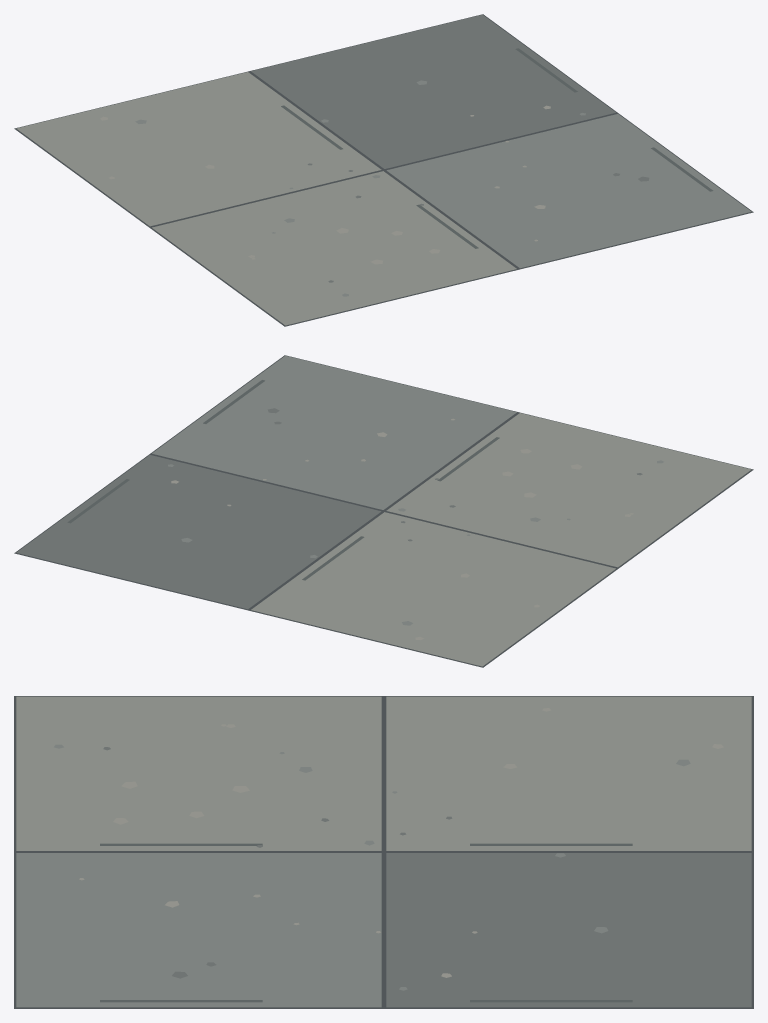
Rendered from 01_Concrete_Panels.fbx.
3 renders of one model, top to bottom at view 1: azimuth 30°, elevation 25°; view 2: azimuth 150°, elevation 25°; view 3: azimuth 270°, elevation 25°, orthographic. The views are drawn at different scales.
Visible parts, largest first — view 1: 01_Concrete_Panels; view 2: 01_Concrete_Panels; view 3: 01_Concrete_Panels.
Boxes of the visible parts, box(x1,y1,x2,y2) form: 01_Concrete_Panels: box(14, 14, 753, 326); 01_Concrete_Panels: box(14, 355, 753, 667); 01_Concrete_Panels: box(14, 696, 753, 1008).
Size of the model in its own units: 800 by 1.3 by 800.
Materials: 1 (1 with a texture image).
